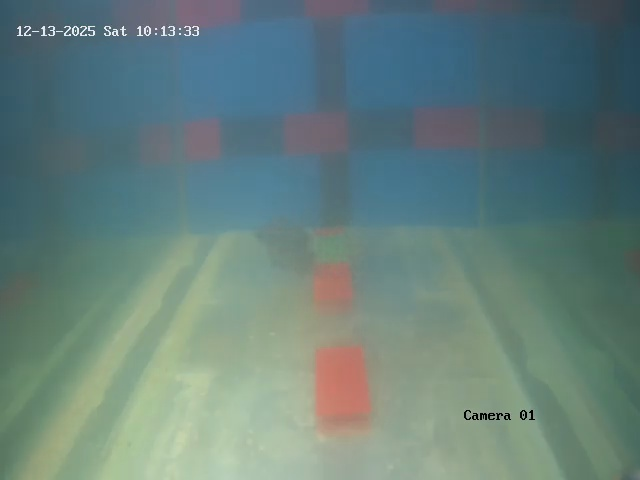fish: (258, 219, 316, 268)
